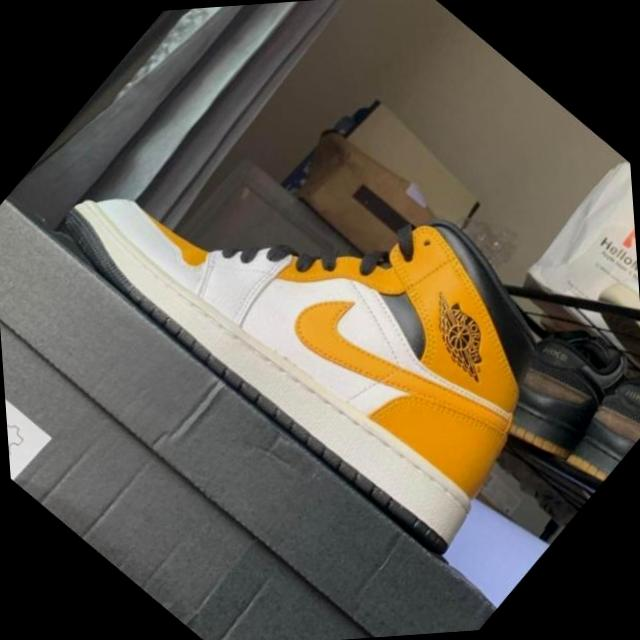nike_original_jordan: (29, 0, 626, 594)
